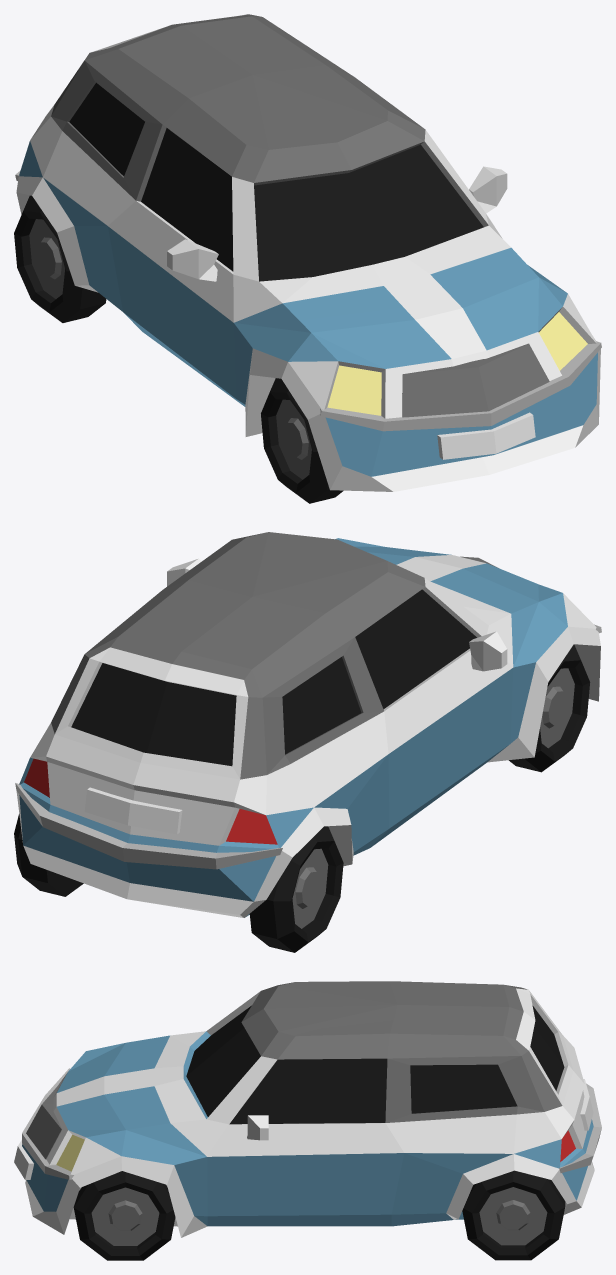
File: Car.fbx
3 views of the same model, one above another, from view 1: azimuth 30°, elevation 25°; view 2: azimuth 150°, elevation 25°; view 3: azimuth 270°, elevation 25° (orthographic). The views are drawn at different scales.
Visible parts, largest first — view 1: Car 1.001, Wheel1-4.001, Wheel1-1.001; view 2: Car 1.001, Wheel1-4.001, Wheel1-1.001, Wheel1-3.001; view 3: Car 1.001, Wheel1-3.001, Wheel1-2.001.
Boxes of the visible parts, bbox=[...] form: Car 1.001: bbox=[15, 14, 601, 491]; Wheel1-4.001: bbox=[14, 195, 106, 322]; Wheel1-1.001: bbox=[261, 378, 343, 503]; Car 1.001: bbox=[15, 532, 601, 917]; Wheel1-4.001: bbox=[249, 826, 343, 952]; Wheel1-1.001: bbox=[509, 644, 590, 772]; Wheel1-3.001: bbox=[14, 814, 83, 896]; Car 1.001: bbox=[14, 981, 601, 1237]; Wheel1-3.001: bbox=[462, 1170, 565, 1260]; Wheel1-2.001: bbox=[73, 1171, 175, 1260].
Size of the model in its own units: 2.16 by 1.62 by 4.19.
4 materials, 4 textured.
